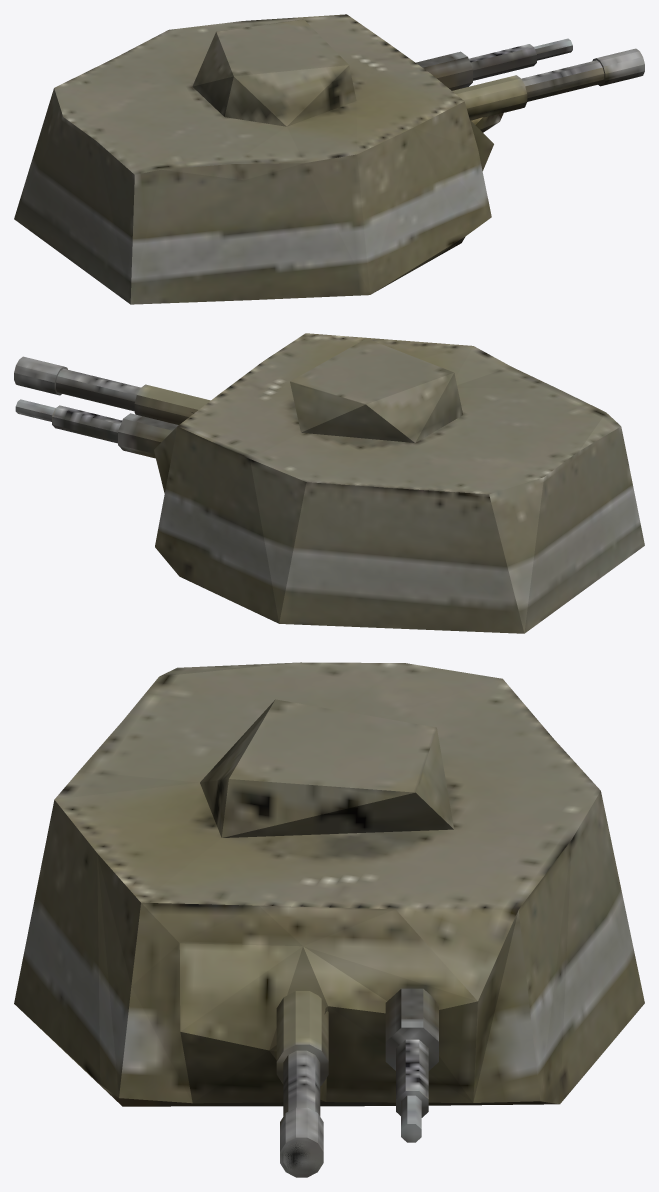
Rendered from turret.obj.
3 views of the same model, one above another, from view 1: azimuth 30°, elevation 25°; view 2: azimuth 150°, elevation 25°; view 3: azimuth 270°, elevation 25° (orthographic). The views are drawn at different scales.
Bounding box in the file's own units: 0.5203 × 0.1557 × 0.328.
1 material, 1 textured.
